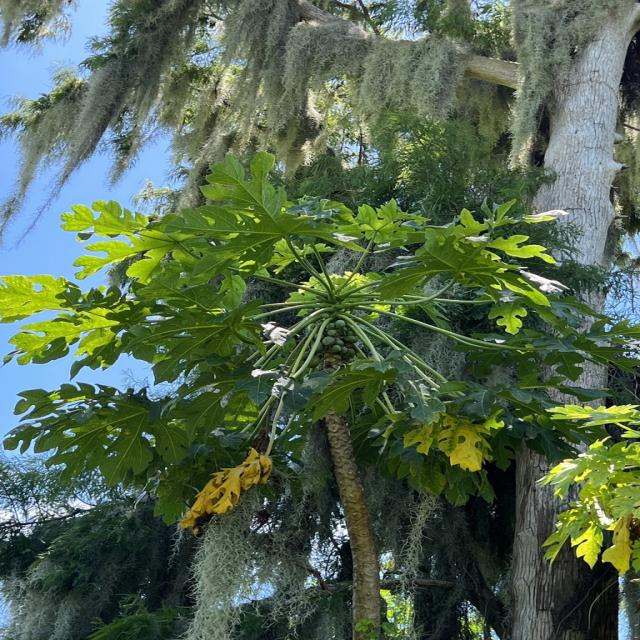Papaya-Tree: (1, 183, 560, 634)
